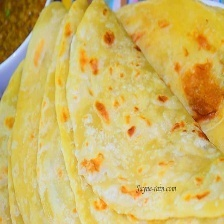roti: (0, 0, 223, 224)
